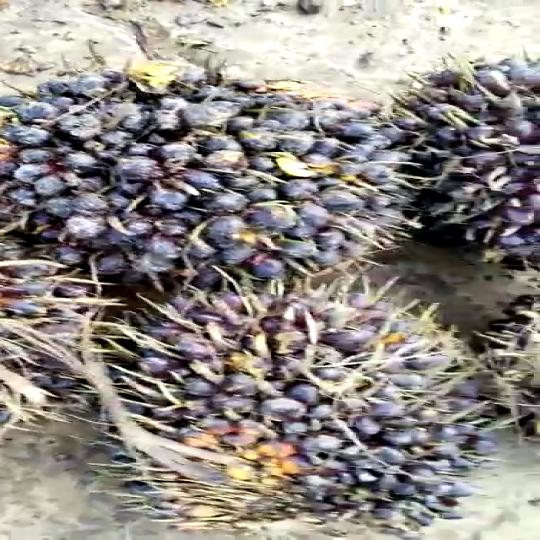mentah: (71, 290, 520, 511), (1, 60, 418, 284)
